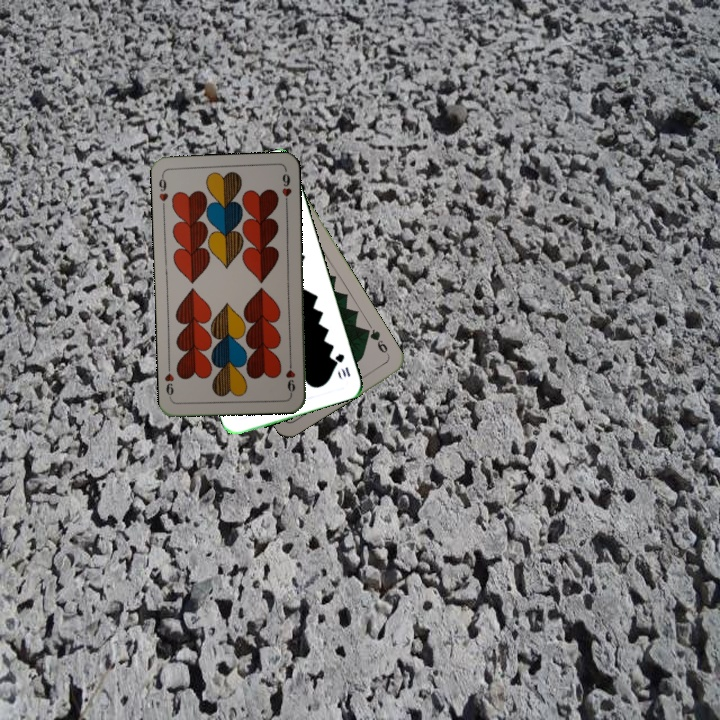G10: (331, 350, 353, 379)
G9: (362, 325, 392, 359)
H9: (282, 356, 298, 396), (155, 172, 171, 212)
